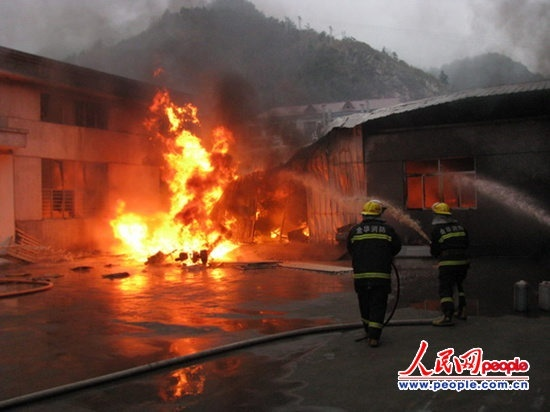fire: (111, 89, 248, 277)
